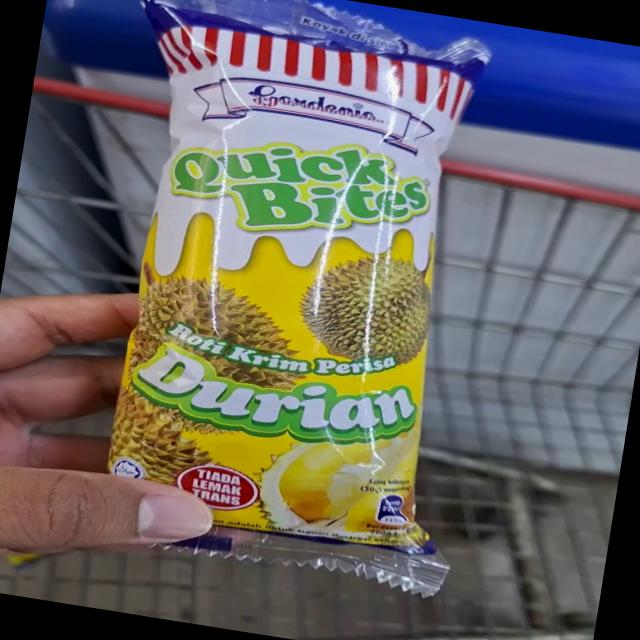Roti: (68, 218, 514, 612), (107, 0, 511, 305)
